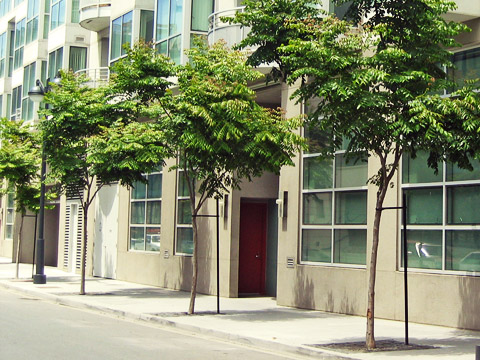tree: (217, 1, 480, 350), (110, 37, 301, 315)
